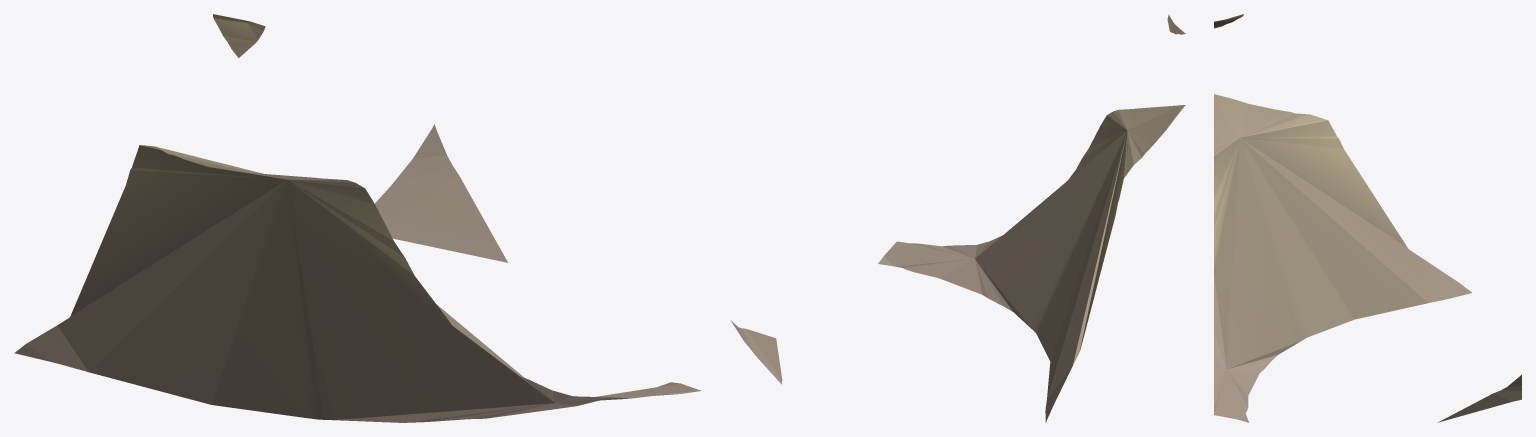
Rendered from bisect-6-4-12.gltf.
The picture shows the model from 3 angles, left to right: view 1: azimuth 30°, elevation 25°; view 2: azimuth 150°, elevation 25°; view 3: azimuth 270°, elevation 25°; orthographic projection. The views are drawn at different scales.
Parts seen in each view (by area): view 1: bisect-6-4-12; view 2: bisect-6-4-12; view 3: bisect-6-4-12.
Boxes of the visible parts, <box> form: bisect-6-4-12: <box>14,14,700,422</box>; bisect-6-4-12: <box>731,14,1185,422</box>; bisect-6-4-12: <box>1214,14,1521,422</box>.
Size of the model in its own units: 20 by 20 by 20.
